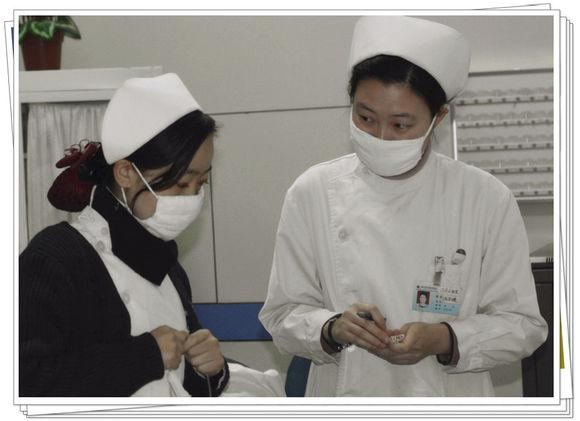OK: (125, 149, 215, 239), (349, 94, 430, 179)
